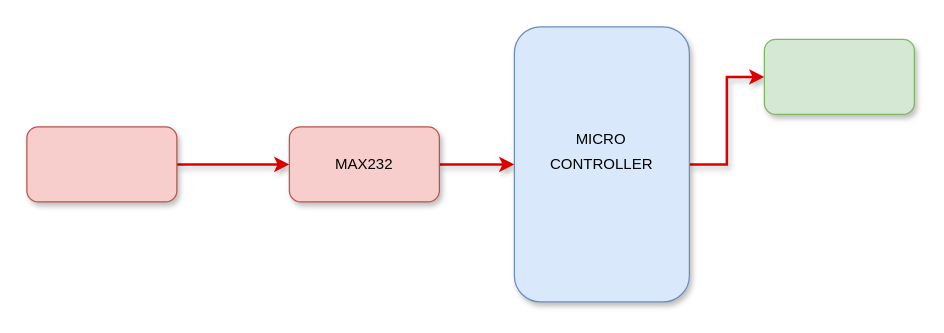
This 944x333 diagram has some shape labels left out. The centre of each missing label's shape, as x and y in pixels:
GPS MODEM: point 102,166
LCD DISPLAY: point 840,78
